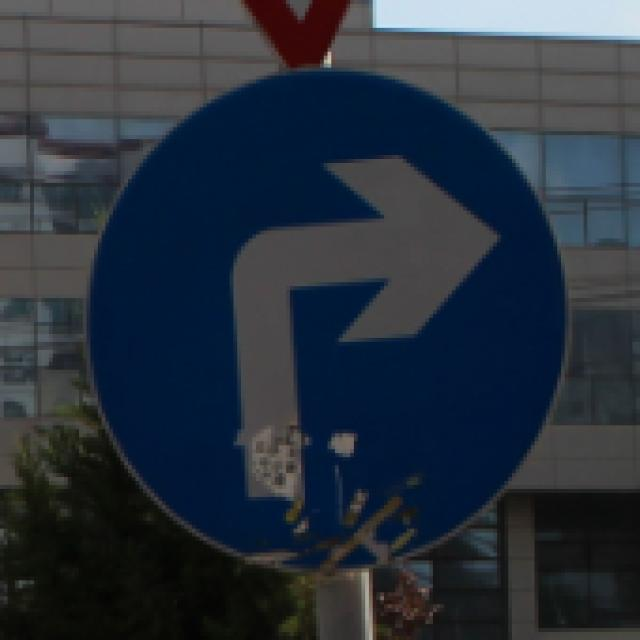right: (100, 71, 555, 568)
